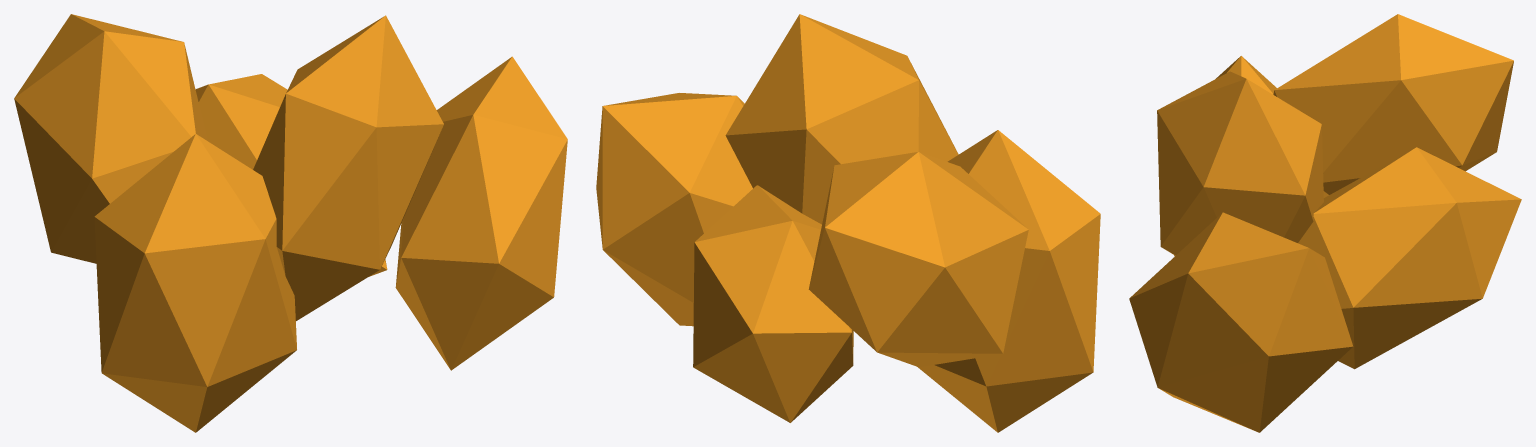
3 views of the same model, side by side, from view 1: azimuth 30°, elevation 25°; view 2: azimuth 150°, elevation 25°; view 3: azimuth 270°, elevation 25° (orthographic). The views are drawn at different scales.
Parts seen in each view (by area): view 1: Carried amber; view 2: Carried amber; view 3: Carried amber.
Part boxes in pixels (x1,y1,x2,y2): Carried amber: (14,14,567,432); Carried amber: (596,14,1100,432); Carried amber: (1129,14,1521,432).
Bounding box in the file's own units: 0.6322 × 0.4679 × 0.4895.
